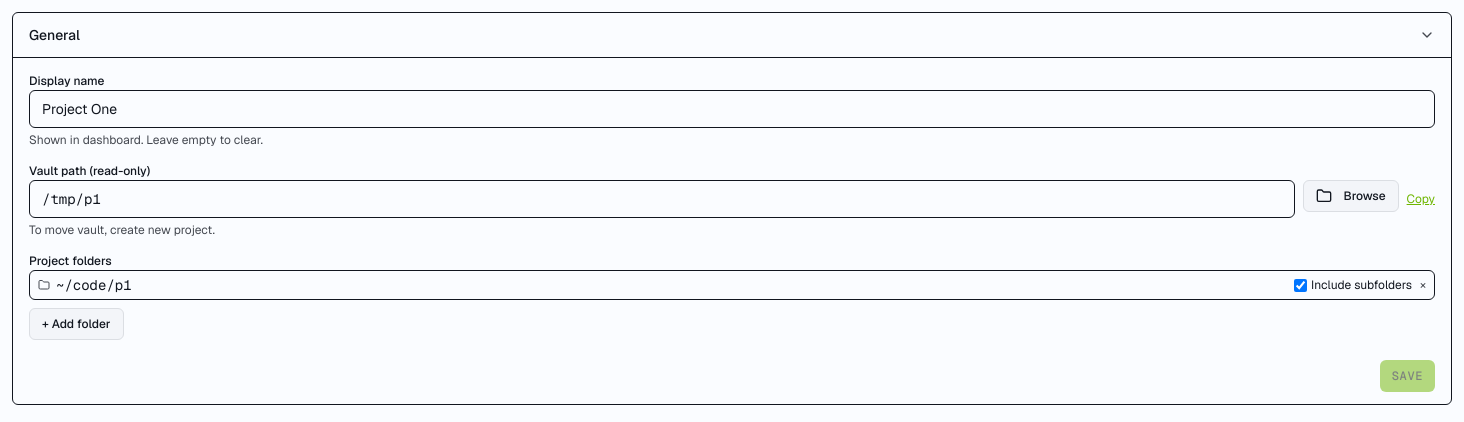
GeneralSection › change display_name → Save enables → PATCH /projects/p1
Later steps or results of the test are not shown.
Replace the text in the field showing "Project One" below "Display name" with "New Name" at coordinates (732, 109), box 29,90 -> 1435,128
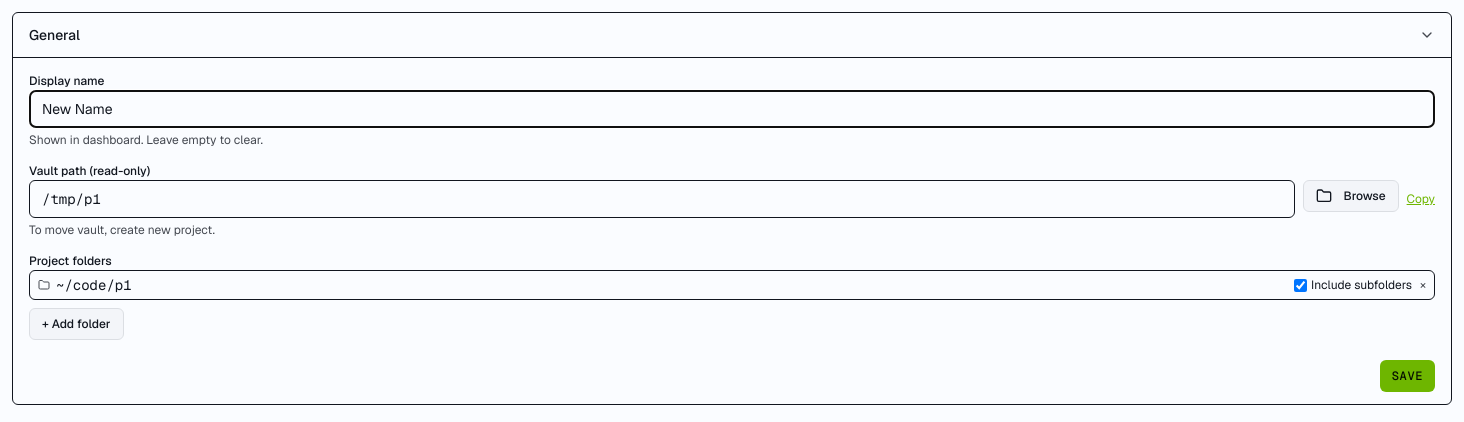
Result: the button "Save" is enabled at 1380,360 -> 1435,392
